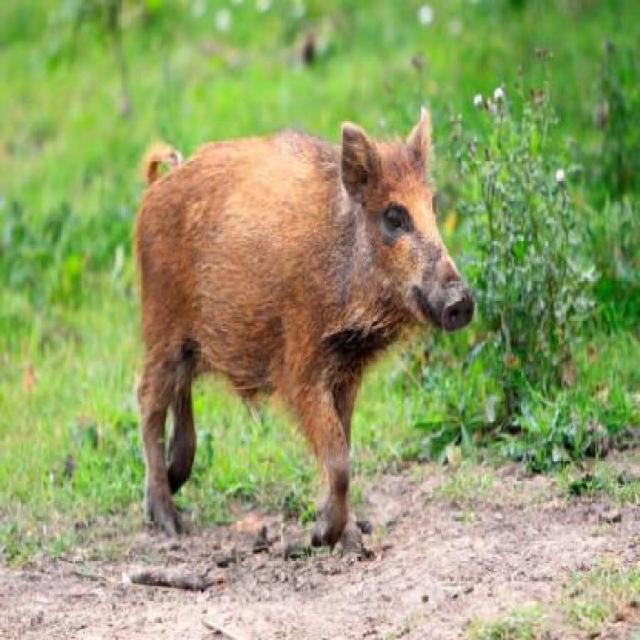wildboar: (128, 103, 478, 555)
